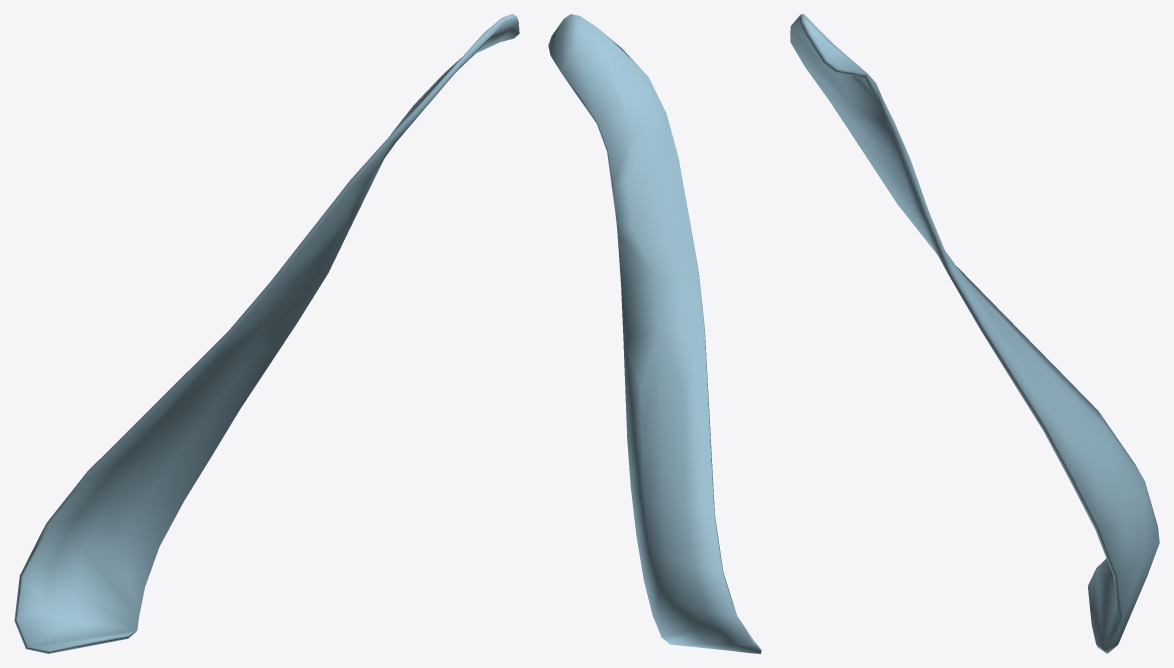
Rendered from articulacoes-oblique-popliteal-ligament-l.glb.
The picture shows the model from 3 angles, left to right: view 1: azimuth 30°, elevation 25°; view 2: azimuth 150°, elevation 25°; view 3: azimuth 270°, elevation 25°; orthographic projection. The views are drawn at different scales.
Visible parts, largest first — view 1: Oblique popliteal ligament.l; view 2: Oblique popliteal ligament.l; view 3: Oblique popliteal ligament.l.
Part boxes in pixels (x1,y1,x2,y2): Oblique popliteal ligament.l: [14, 14, 519, 653]; Oblique popliteal ligament.l: [548, 14, 761, 653]; Oblique popliteal ligament.l: [790, 14, 1159, 653].
Size of the model in its own units: 0.0436 by 0.0711 by 0.0304.
